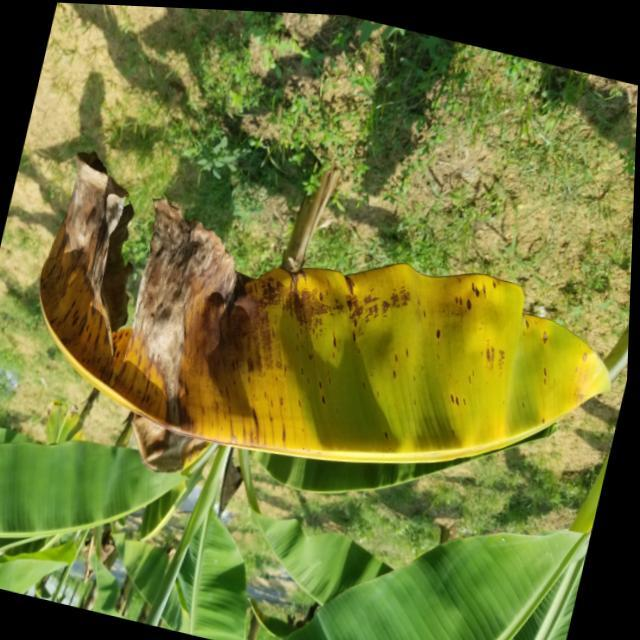Early_rust: (21, 138, 628, 475)
